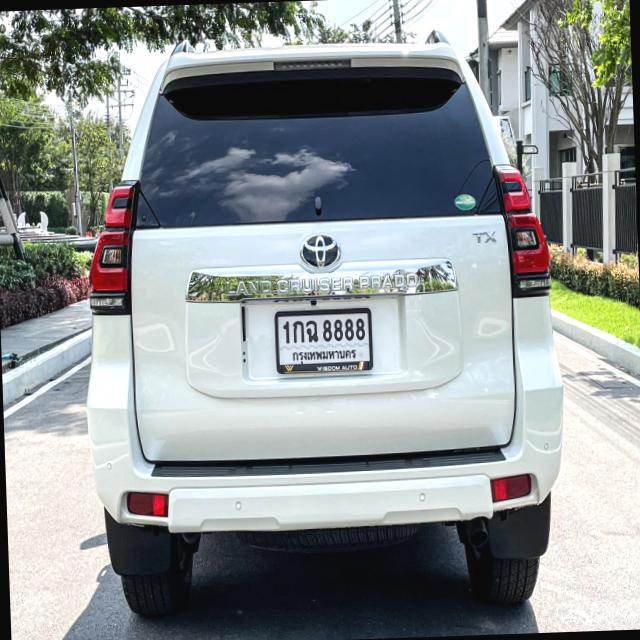license_plate: (271, 306, 374, 375)
